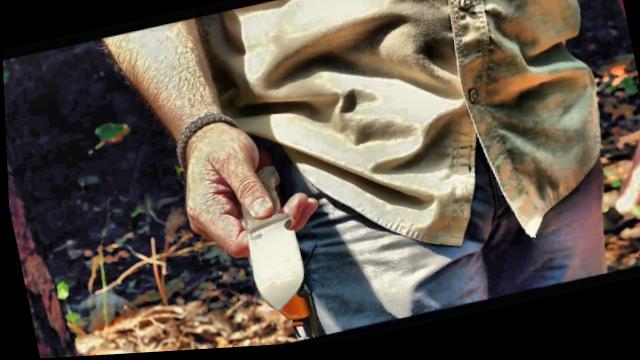knife: (173, 157, 339, 333)
